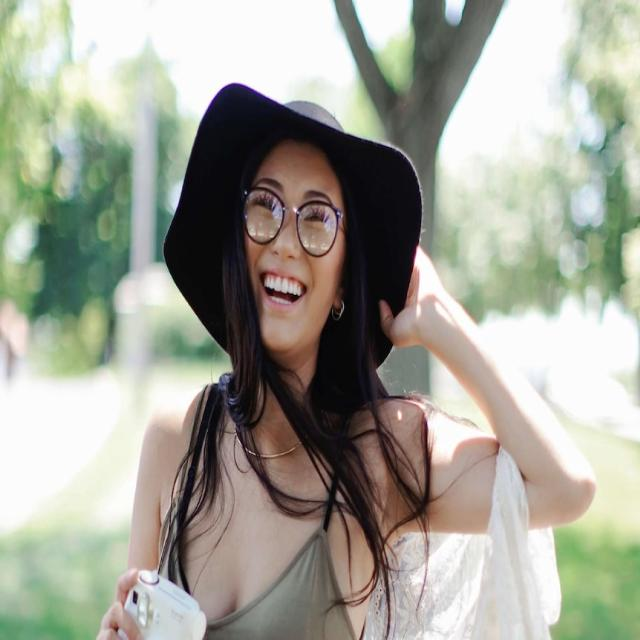hat: (164, 80, 423, 384)
